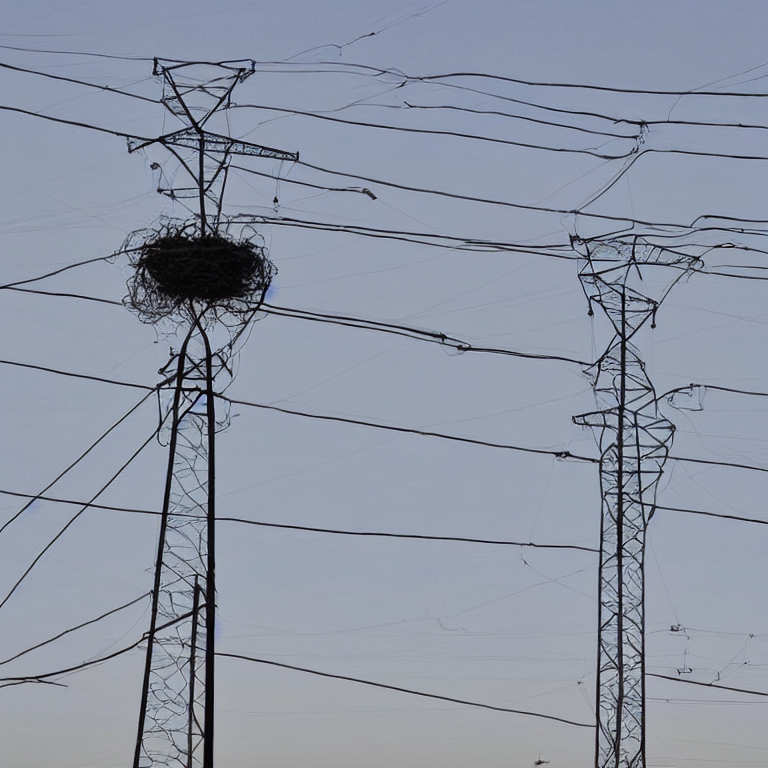nest: (141, 230, 263, 307)
